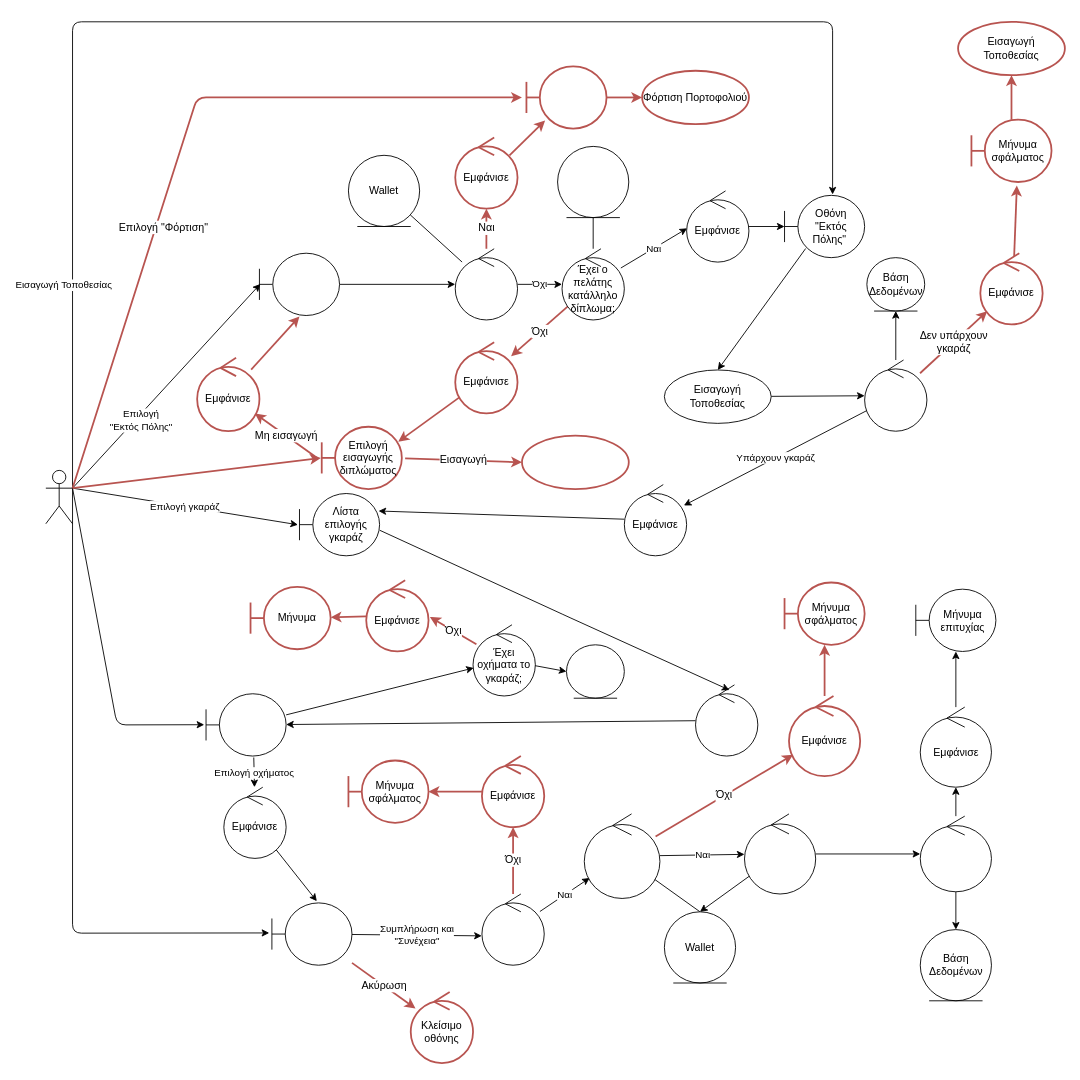
This 1080x1080 diagram has some shape labels left out. The box of each missing label's shape, as (x1, y1, x2, y2) in pixels:
Customer: (557, 146, 629, 218)
Garage: (566, 644, 624, 698)
Έχει ο πελάτης χρέος;: (454, 248, 518, 320)
Ανάκτηση και έλεγχος γκαράζ: (864, 359, 927, 431)
Αποθήκευση: (919, 815, 991, 892)
Αρχική Οθόνη: (259, 252, 340, 316)
Αφαίρεση χρηματικού ποσού από πορτοφόλι: (744, 813, 816, 894)
Διαθέτει ο πελάτης το χρηματικό ποσό;: (583, 813, 660, 898)
Είναι όλα τα στοιχεία έγκυρα;: (481, 893, 544, 965)
Εισαγωγή Διπλώματος Οδήγησης: (521, 434, 629, 490)
Εμφάνισε πληροφορίες γκαράζ: (695, 684, 758, 756)
Μήνυμα ύπαρξης χρέους: (525, 65, 607, 129)
Πελάτης: (45, 469, 73, 524)
Πληροφορίες γκαράζ: (205, 693, 286, 756)
Φόρμα κράτησης: (271, 902, 352, 965)
